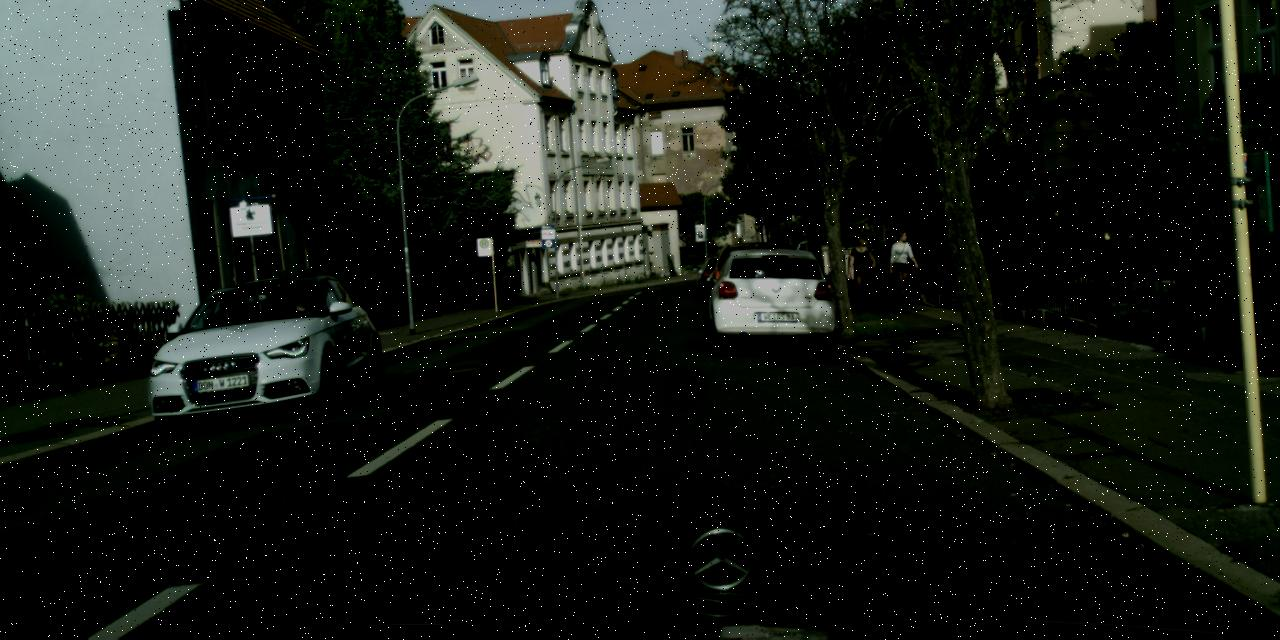ped: (886, 230, 918, 306), (846, 234, 877, 310)
